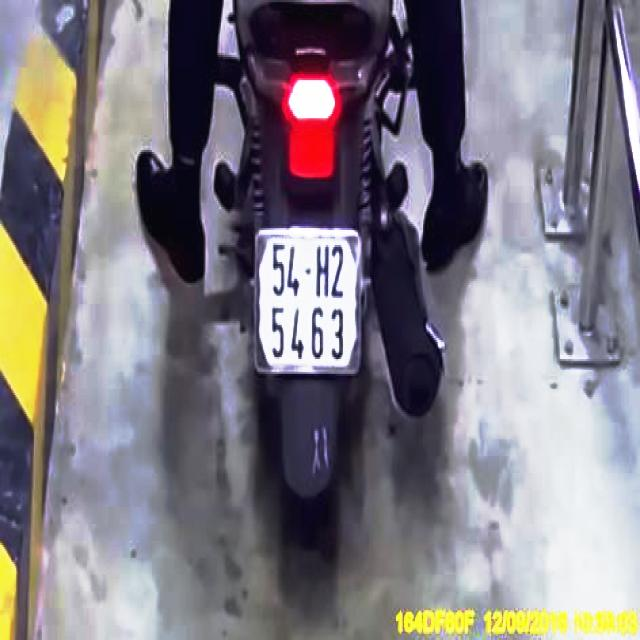license_plate: (256, 235, 362, 375)
